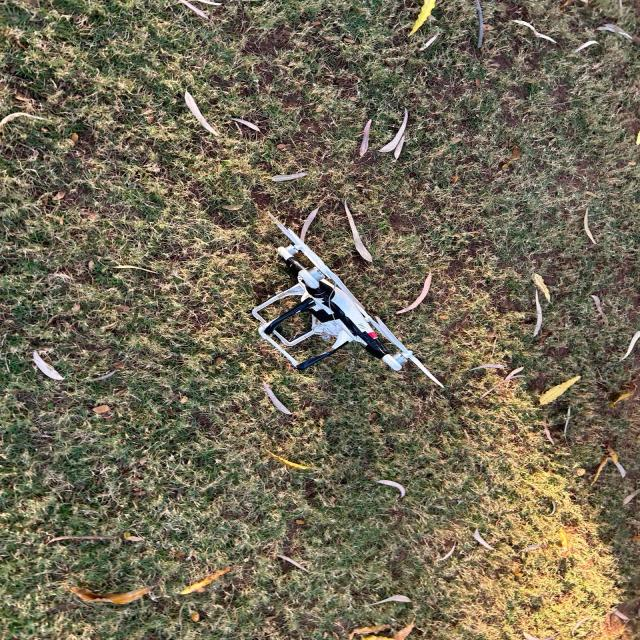drone: (182, 132, 510, 432)
